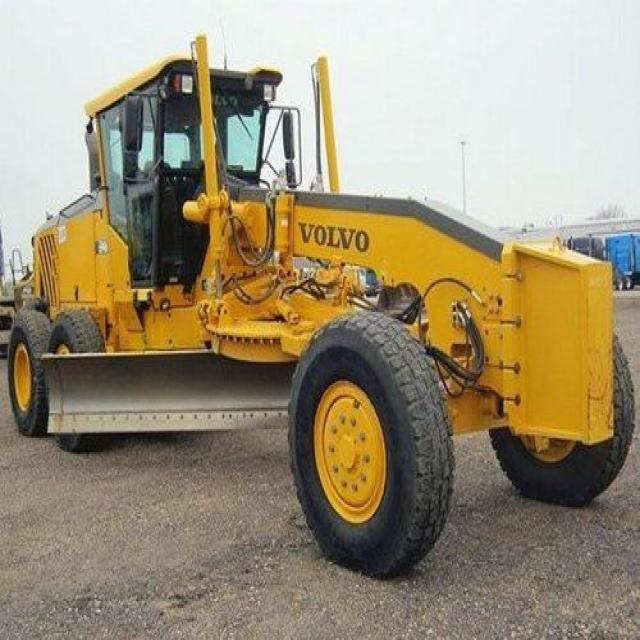Grader: (8, 37, 628, 564)
